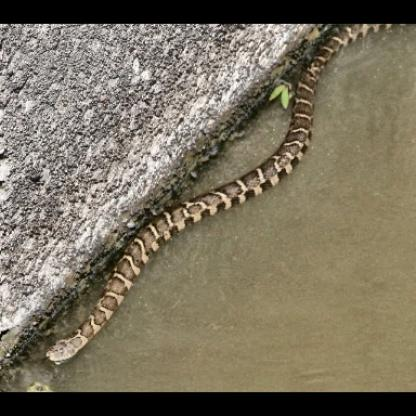Snake: (45, 44, 320, 370)
